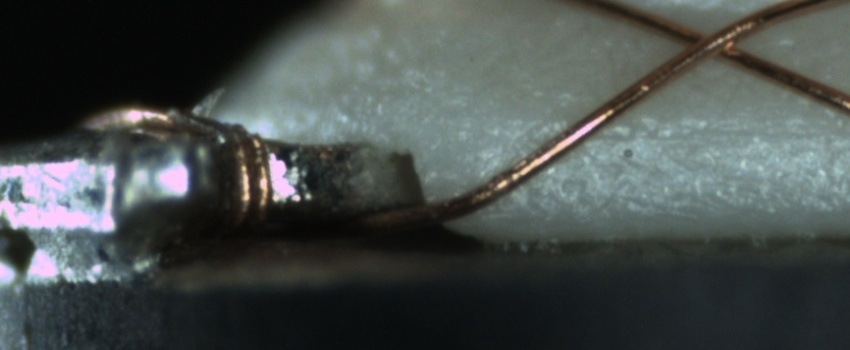CL: (665, 14, 760, 70)
DL: (585, 101, 849, 164)
TE: (82, 101, 279, 234)
